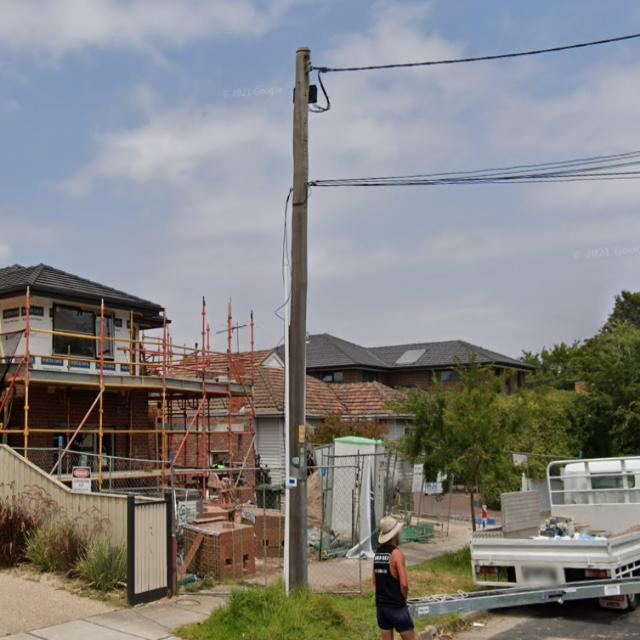timber-pole: (284, 45, 311, 597)
